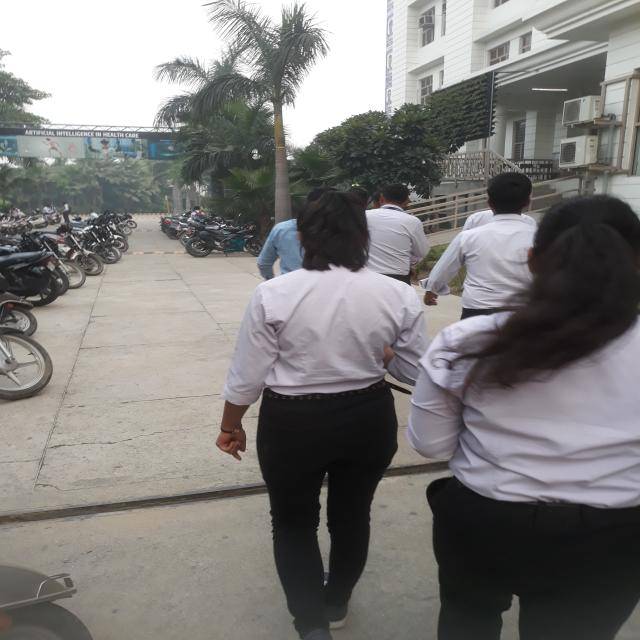unsafe: (404, 191, 640, 640), (210, 194, 426, 640)
